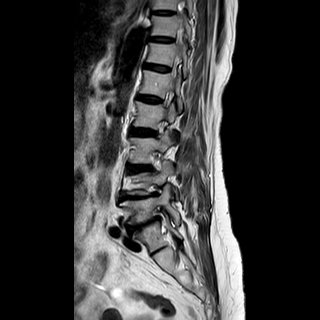LFS0: (143, 148, 168, 177), (154, 84, 179, 113), (150, 115, 171, 144)
